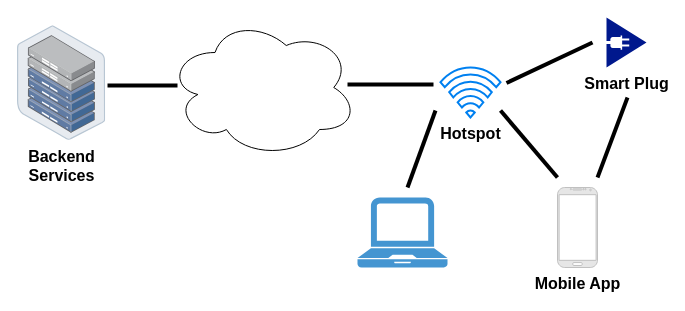
Image size: 685x311. Some labels were removed from this diagram. Each missing label, with the box of its shape:
Computer: (357, 197, 447, 267)
Internet: (166, 16, 358, 158)
